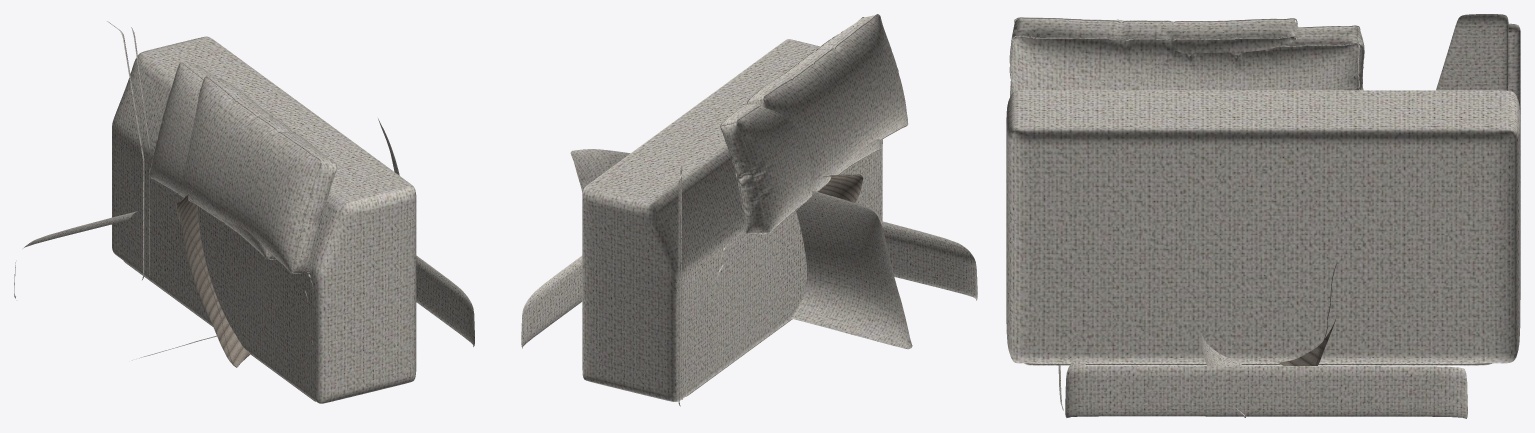
File: florida-parts.glb
3 renders of one model, left to right at view 1: azimuth 30°, elevation 25°; view 2: azimuth 150°, elevation 25°; view 3: azimuth 270°, elevation 25°, orthographic. The views are drawn at different scales.
Parts seen in each view (by area): view 1: armWide, armSlim, seat, pillow; view 2: armWide, back, armSlim, seat, pillow; view 3: armWide, seat, armSlim, pillow, back.
Part boxes in pixels (x1,y1,x2,y2): armWide: (107,21,416,403); armSlim: (124,27,315,401); seat: (14,211,474,346); pillow: (176,190,250,367); armWide: (582,14,908,406); back: (570,149,912,349); armSlim: (680,103,881,399); seat: (521,220,977,348); pillow: (818,174,863,202); armWide: (1006,17,1520,363); seat: (1058,360,1467,418); armSlim: (1024,14,1508,365); pillow: (1275,264,1336,365); back: (1199,327,1246,417).
Bounding box in the file's own units: 0.8535 × 0.6359 × 1.01.
3 materials, 2 textured.
